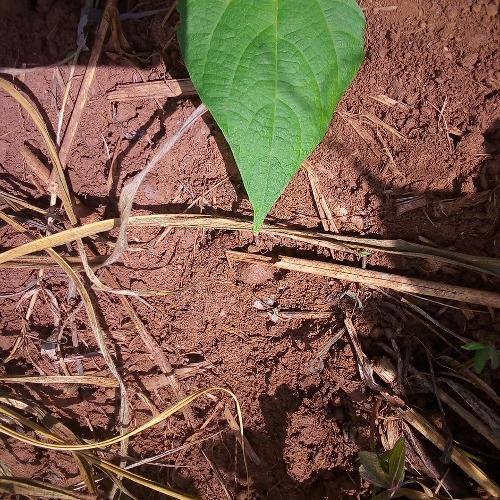sehat: (177, 0, 360, 203)
